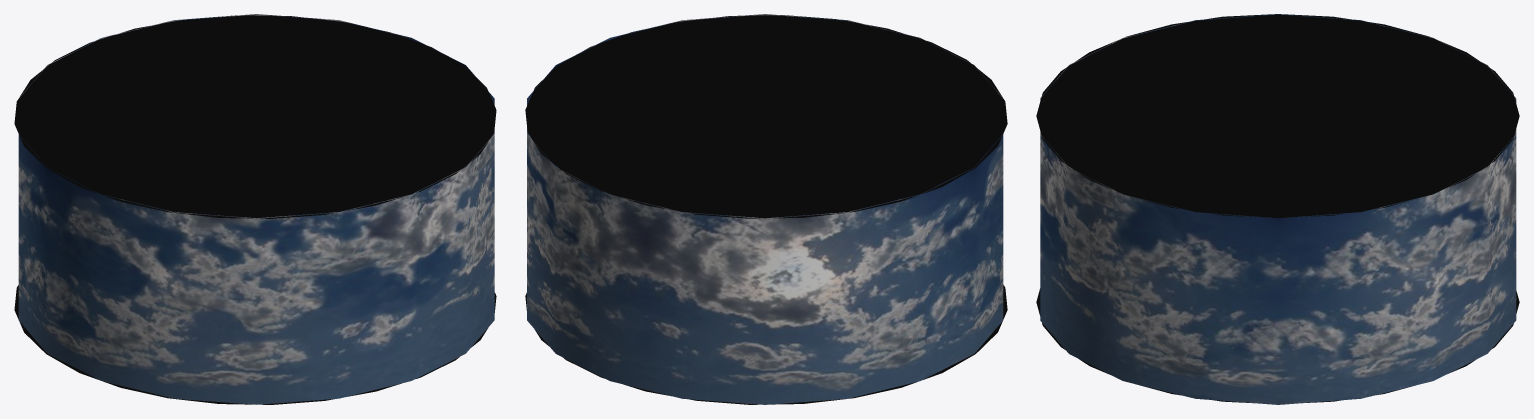
Rendered from Sky.FBX.
The picture shows the model from 3 angles, left to right: view 1: azimuth 30°, elevation 25°; view 2: azimuth 150°, elevation 25°; view 3: azimuth 270°, elevation 25°; orthographic projection.
Parts seen in each view (by area): view 1: Cylinder01, Circle02, Circle01; view 2: Cylinder01, Circle02, Circle01; view 3: Cylinder01, Circle02, Circle01.
Part boxes in pixels (box(x1,y1,x2,y2)): Cylinder01: box(18, 14, 494, 404); Circle02: box(14, 15, 496, 218); Circle01: box(14, 285, 496, 404); Cylinder01: box(527, 14, 1003, 404); Circle02: box(525, 15, 1007, 218); Circle01: box(525, 285, 1007, 404); Cylinder01: box(1040, 14, 1516, 404); Circle02: box(1036, 14, 1519, 218); Circle01: box(1036, 210, 1519, 403).
Size of the model in its own units: 10029 by 4262 by 10000.
Materials: 2 (1 with a texture image).
